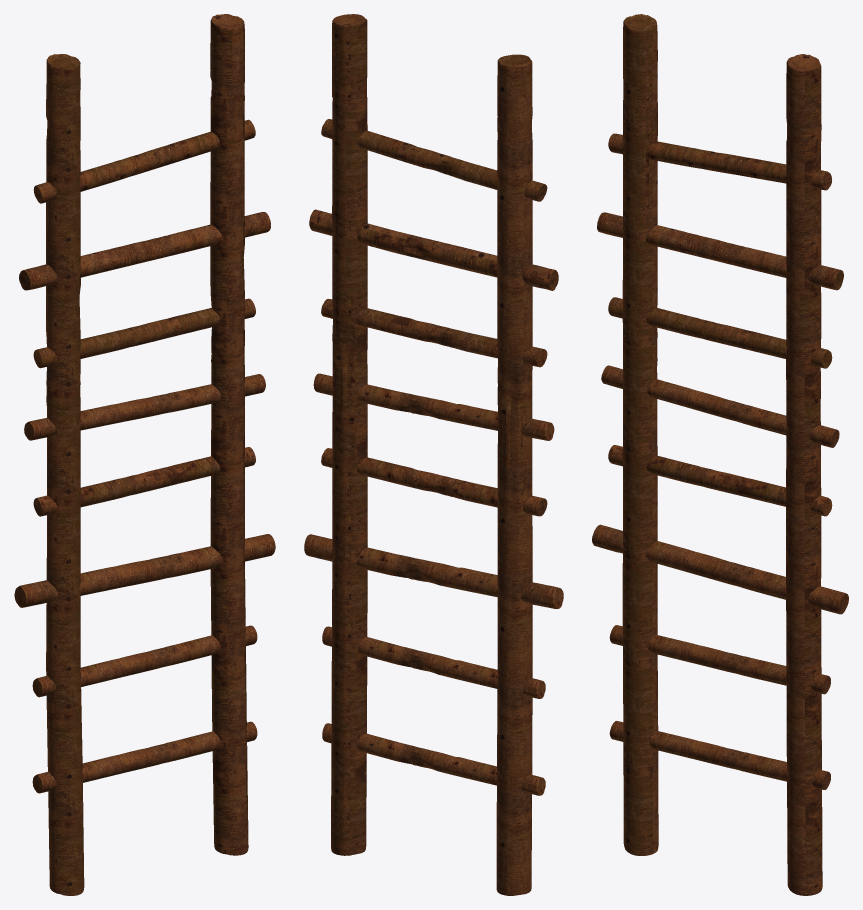
Rendered from objStairs.obj.
3 views of the same model, side by side, from view 1: azimuth 30°, elevation 25°; view 2: azimuth 150°, elevation 25°; view 3: azimuth 330°, elevation 25° (orthographic).
Parts seen in each view (by area): view 1: m:m:Fence:FenceRender:LH_Fence:Fence_01_group m:m:Fence:FenceRen; view 2: m:m:Fence:FenceRender:LH_Fence:Fence_01_group m:m:Fence:FenceRen; view 3: m:m:Fence:FenceRender:LH_Fence:Fence_01_group m:m:Fence:FenceRen.
Part boxes in pixels (x1=…): m:m:Fence:FenceRender:LH_Fence:Fence_01_group m:m:Fence:FenceRen: x1=14, y1=14, x2=275, y2=895; m:m:Fence:FenceRender:LH_Fence:Fence_01_group m:m:Fence:FenceRen: x1=304, y1=14, x2=563, y2=895; m:m:Fence:FenceRender:LH_Fence:Fence_01_group m:m:Fence:FenceRen: x1=592, y1=14, x2=848, y2=895.
Bounding box in the file's own units: 2.14 × 6.76 × 0.2829.
Materials: 1 (1 with a texture image).
